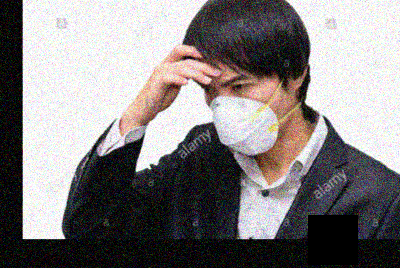with_mask: (205, 72, 292, 156)
